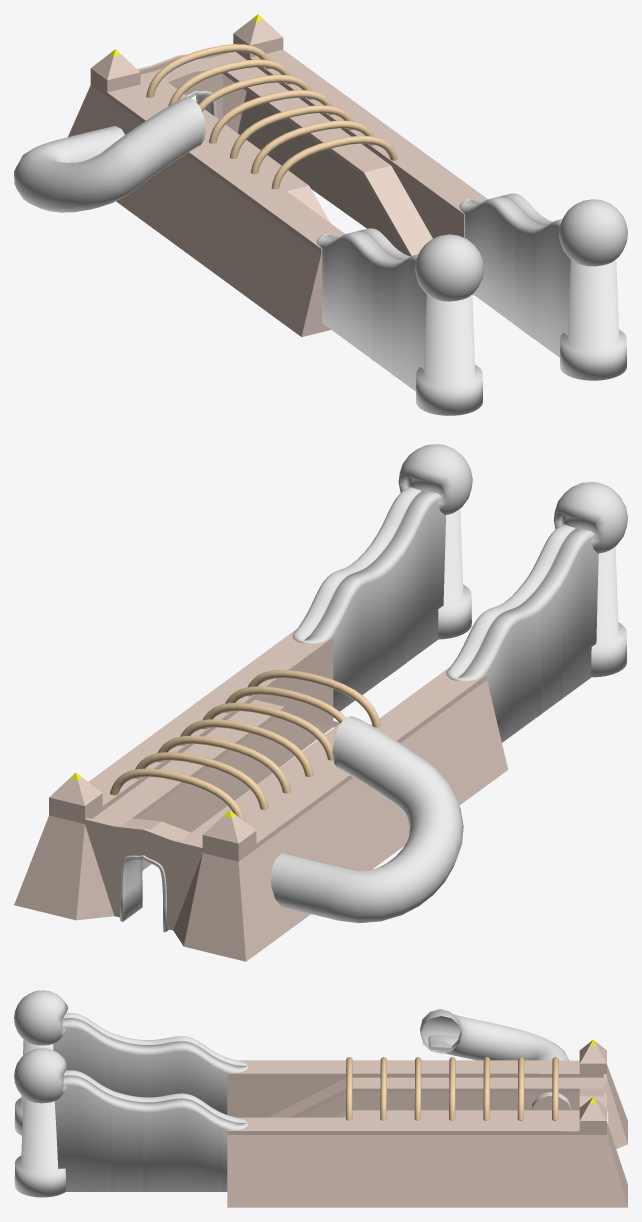
File: market.fbx
3 views of the same model, one above another, from view 1: azimuth 30°, elevation 25°; view 2: azimuth 150°, elevation 25°; view 3: azimuth 270°, elevation 25° (orthographic). The views are drawn at different scales.
Visible parts, largest first — view 1: StreetArch, wallMarketToTempleEntry, marketpillar, Catwalkaccess_tunnel, marketroof, Icosphere; view 2: StreetArch, wallMarketToTempleEntry, Catwalkaccess_tunnel, marketroof, Icosphere, marketpillar, door; view 3: StreetArch, wallMarketToTempleEntry, Icosphere, Catwalkaccess_tunnel, marketpillar, marketroof, Catwalkaccess_tunnel_flatfloor.
Boxes of the visible parts, x1,y1,x2,y2 form: StreetArch: (68,14,487,336); wallMarketToTempleEntry: (316,193,570,391); marketpillar: (416,259,626,415); Catwalkaccess_tunnel: (14,97,205,212); marketroof: (146,44,397,189); Icosphere: (415,199,627,301); StreetArch: (14,629,508,961); wallMarketToTempleEntry: (292,487,598,742); Catwalkaccess_tunnel: (271,716,463,923); marketroof: (110,669,380,821); Icosphere: (398,444,627,553); marketpillar: (438,509,626,677); door: (120,855,168,931); StreetArch: (227,1039,627,1207); wallMarketToTempleEntry: (53,1013,248,1191); Icosphere: (14,990,67,1103); Catwalkaccess_tunnel: (420,1009,571,1110); marketpillar: (14,1040,65,1197); marketroof: (346,1057,558,1120); Catwalkaccess_tunnel_flatfloor: (428,1034,458,1050).
Size of the model in its own units: 453 by 238 by 910.
